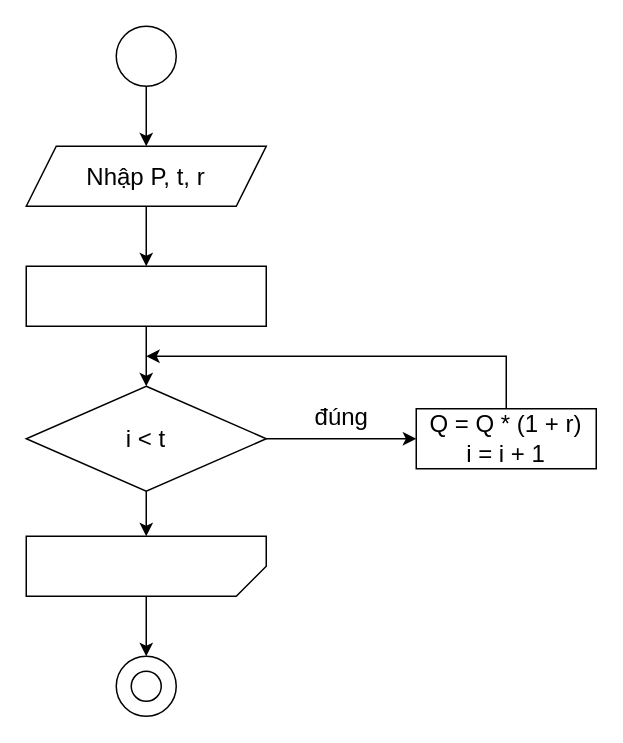
This 623x743 diagram has some shape labels left out. The shapes that lost their labels are listed below. From the top down, each one's centre as x and y in pixels, then its label:
At pixel 145 295: "i = 0, Q = P".
At pixel 145 565: "Xuất Q".
